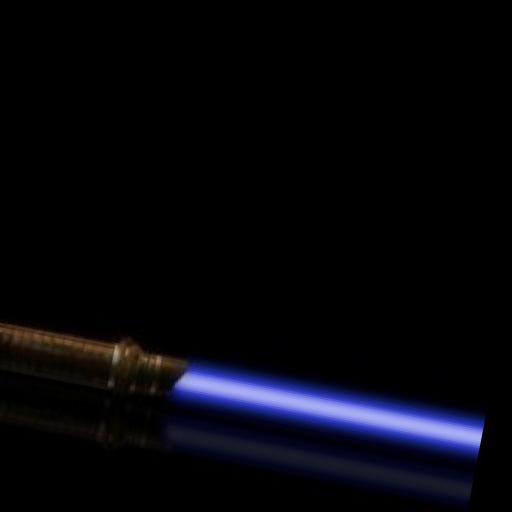lightsaber: (0, 309, 487, 474)
